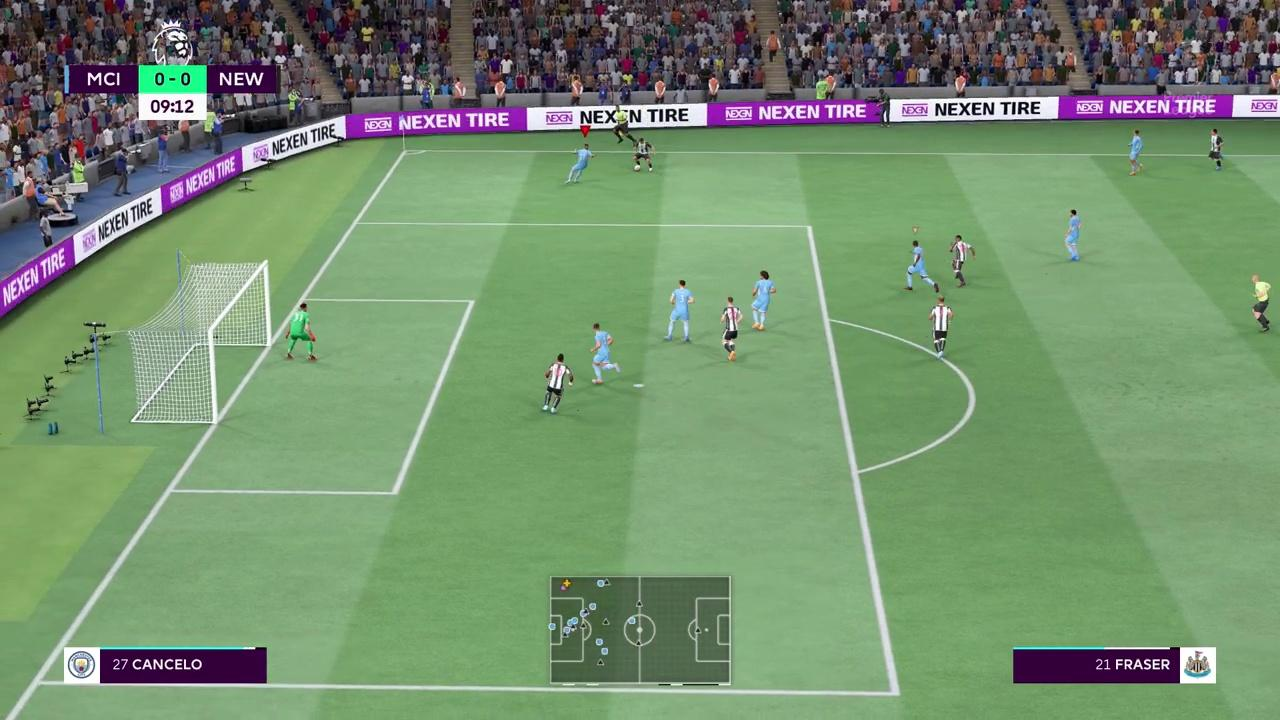scoreboard: (60, 63, 282, 93)
timestamp: (133, 95, 212, 120)
